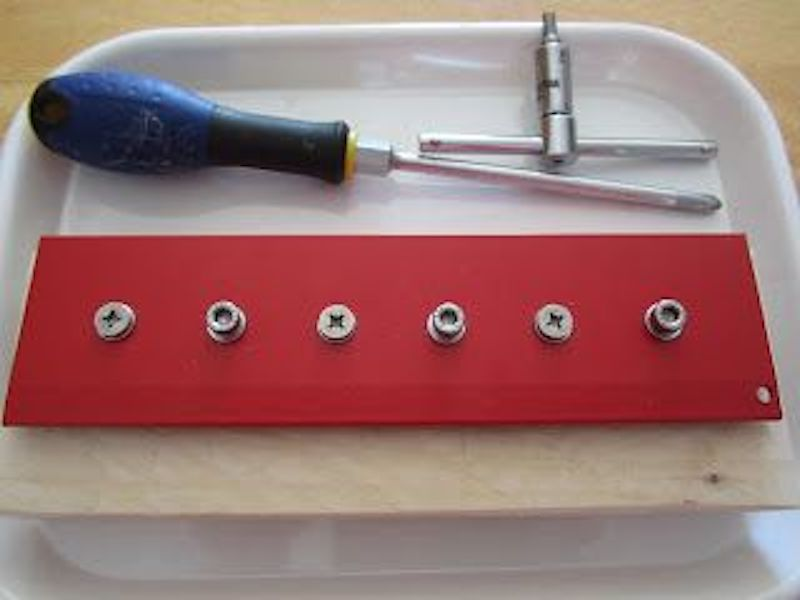screw: (644, 298, 687, 344), (92, 300, 138, 343), (206, 299, 248, 346), (426, 301, 468, 347), (533, 303, 576, 345), (316, 303, 358, 345)
